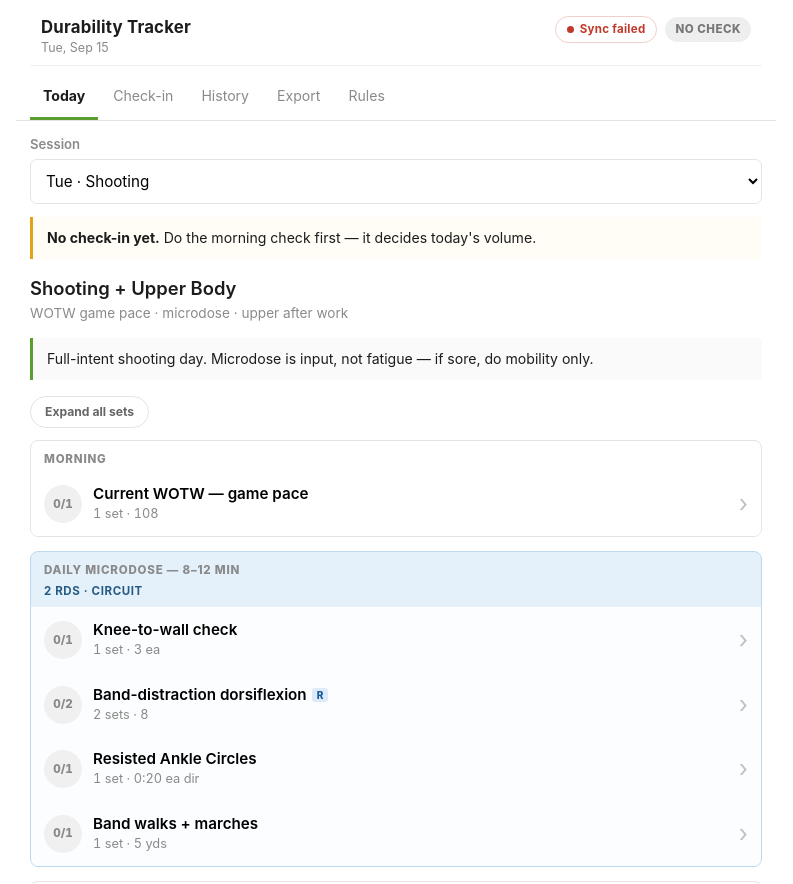
session rendering › renders straight sets as exercise cards
Select "Mon · Lower A" in the dropdown labelled "Session" at point(396, 181), box [30,159,762,204]
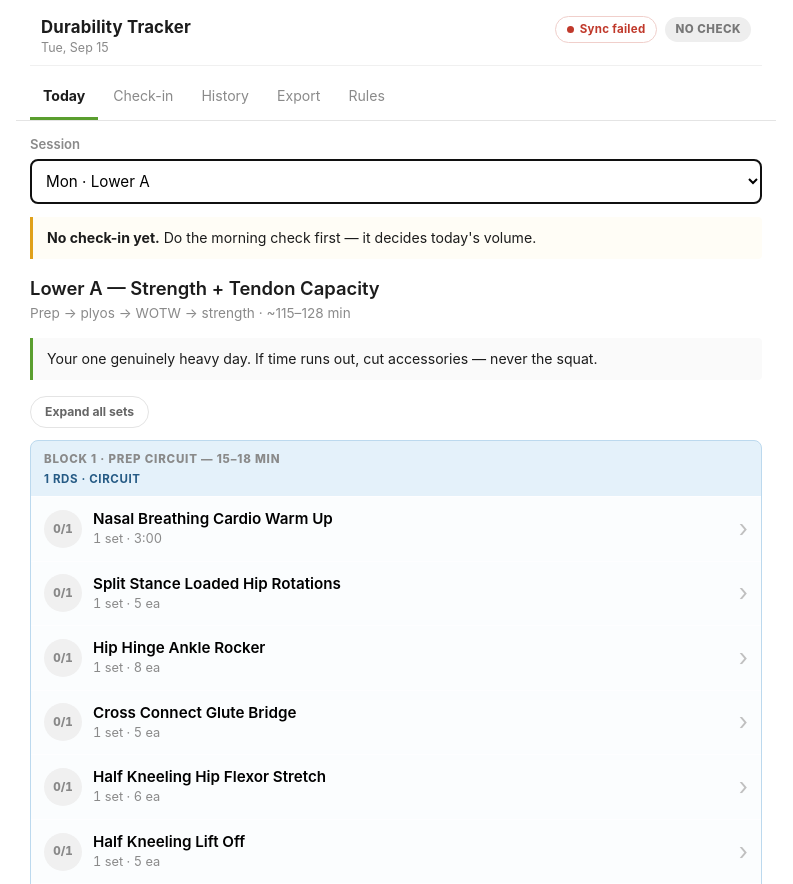
Click the button "Expand all sets" at point(90, 412), box [30,396,149,428]
(page scrolled)
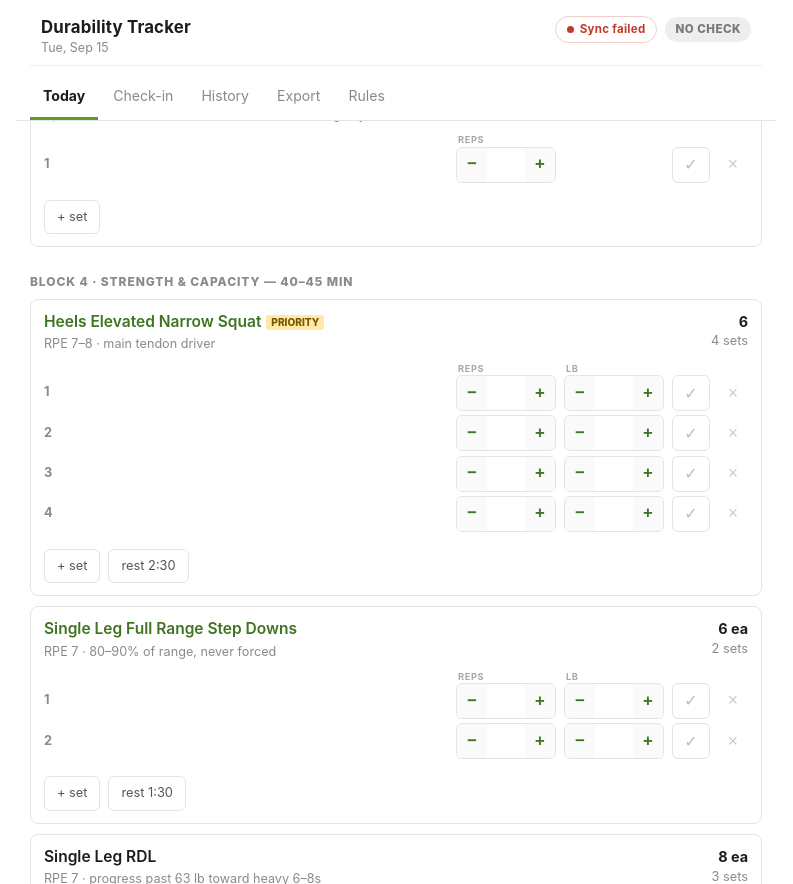
expect the element that starts with "Heels Elevated Narrow Squat" is shown: met, box [30,298,762,596]
